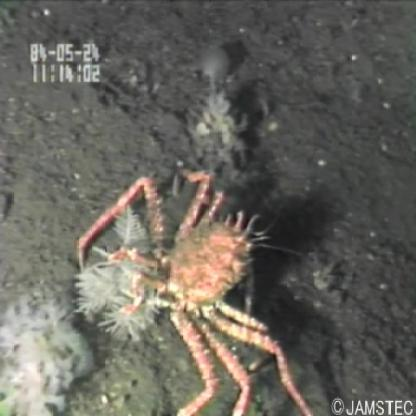Bio: (69, 158, 319, 415)
